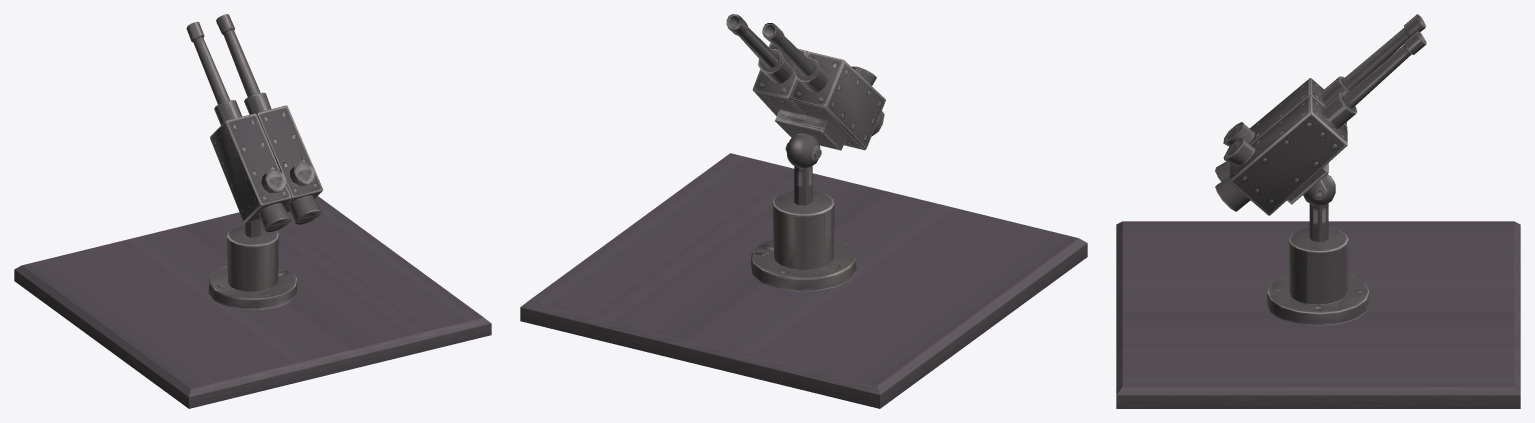
Rendered from flak22-final.glb.
3 renders of one model, left to right at view 1: azimuth 30°, elevation 25°; view 2: azimuth 150°, elevation 25°; view 3: azimuth 270°, elevation 25°, orthographic. The views are drawn at different scales.
Visible parts, largest first — view 1: plate, guns, mount; view 2: plate, guns, mount; view 3: plate, guns, mount.
Boxes of the visible parts, x1,y1,x2,y2 form: plate: [14, 196, 491, 408]; guns: [186, 14, 323, 232]; mount: [208, 219, 296, 309]; plate: [520, 153, 1087, 408]; guns: [726, 14, 885, 158]; mount: [751, 133, 856, 291]; plate: [1116, 221, 1520, 408]; guns: [1215, 14, 1426, 215]; mount: [1266, 174, 1370, 325].
Size of the model in its own units: 1.9 by 1.55 by 1.9.
2 materials, 2 textured.
